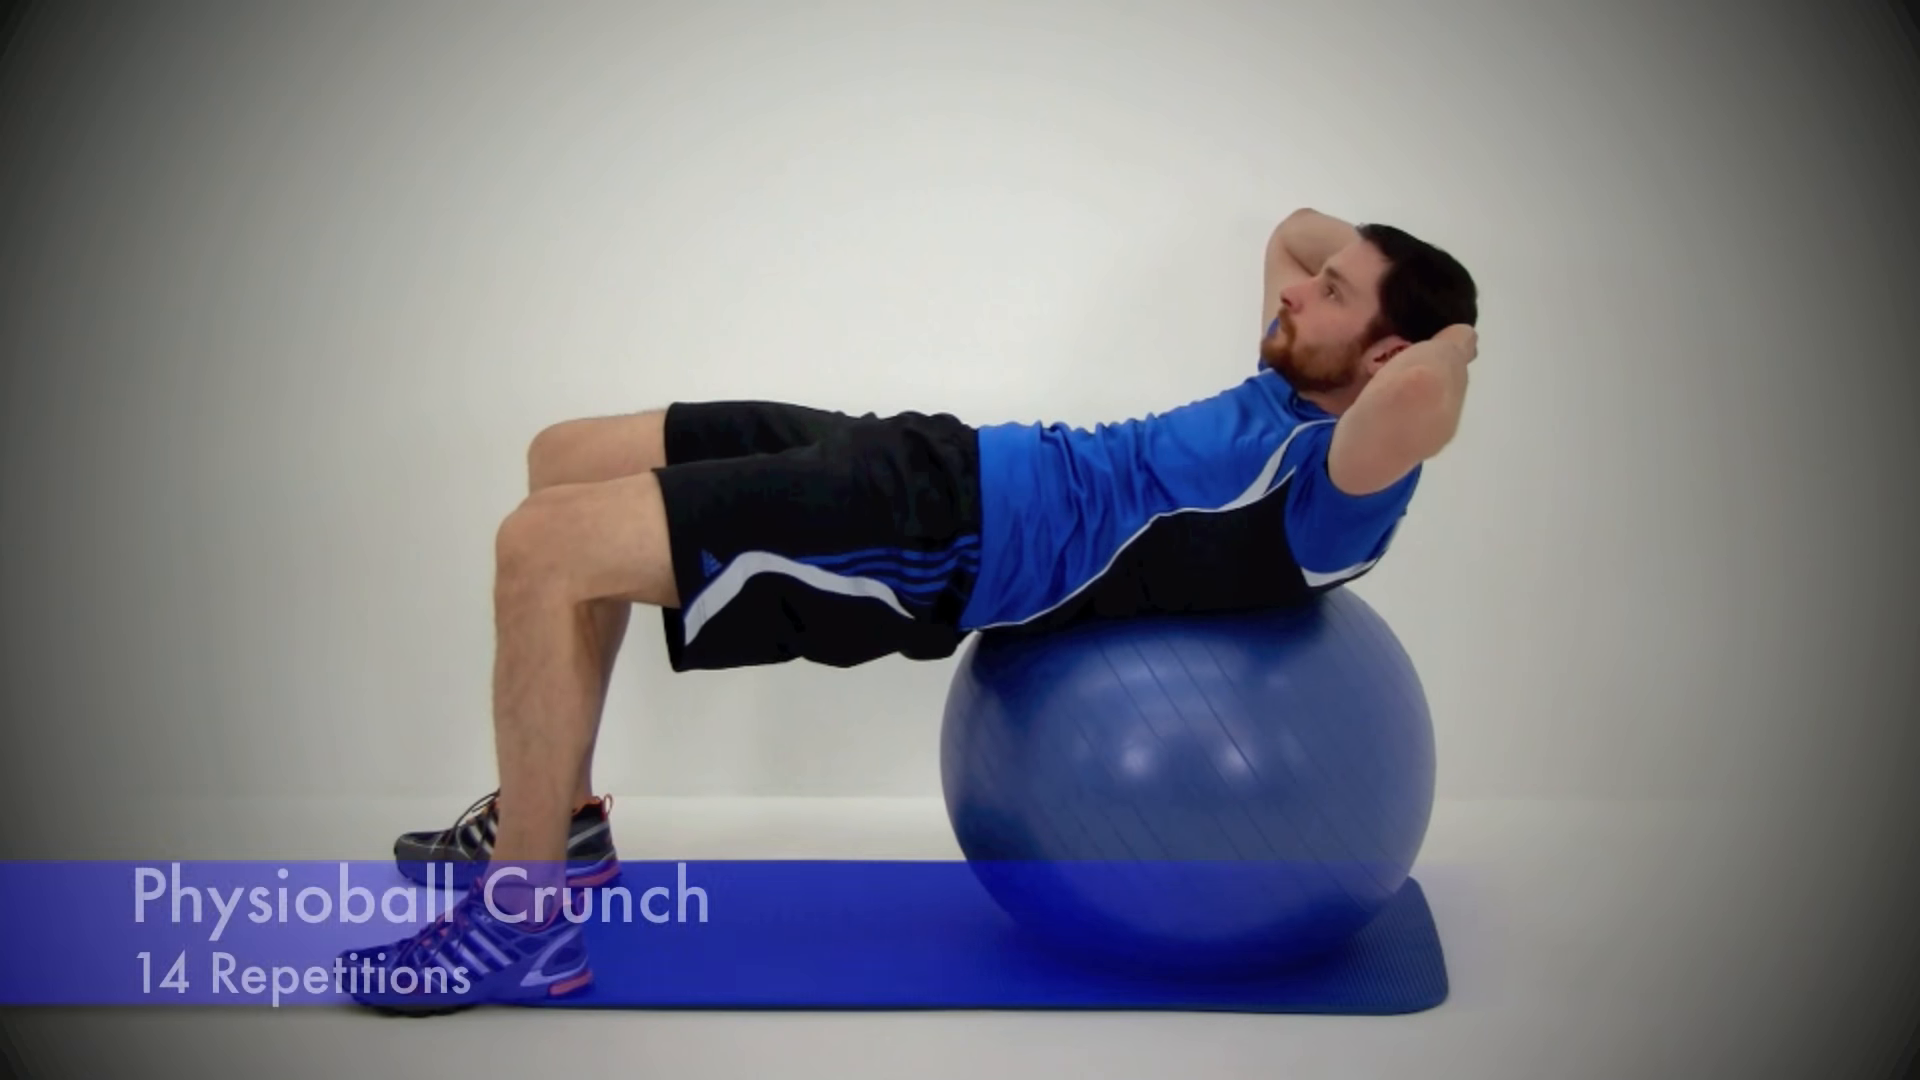yogaball: (934, 564, 1451, 981)
